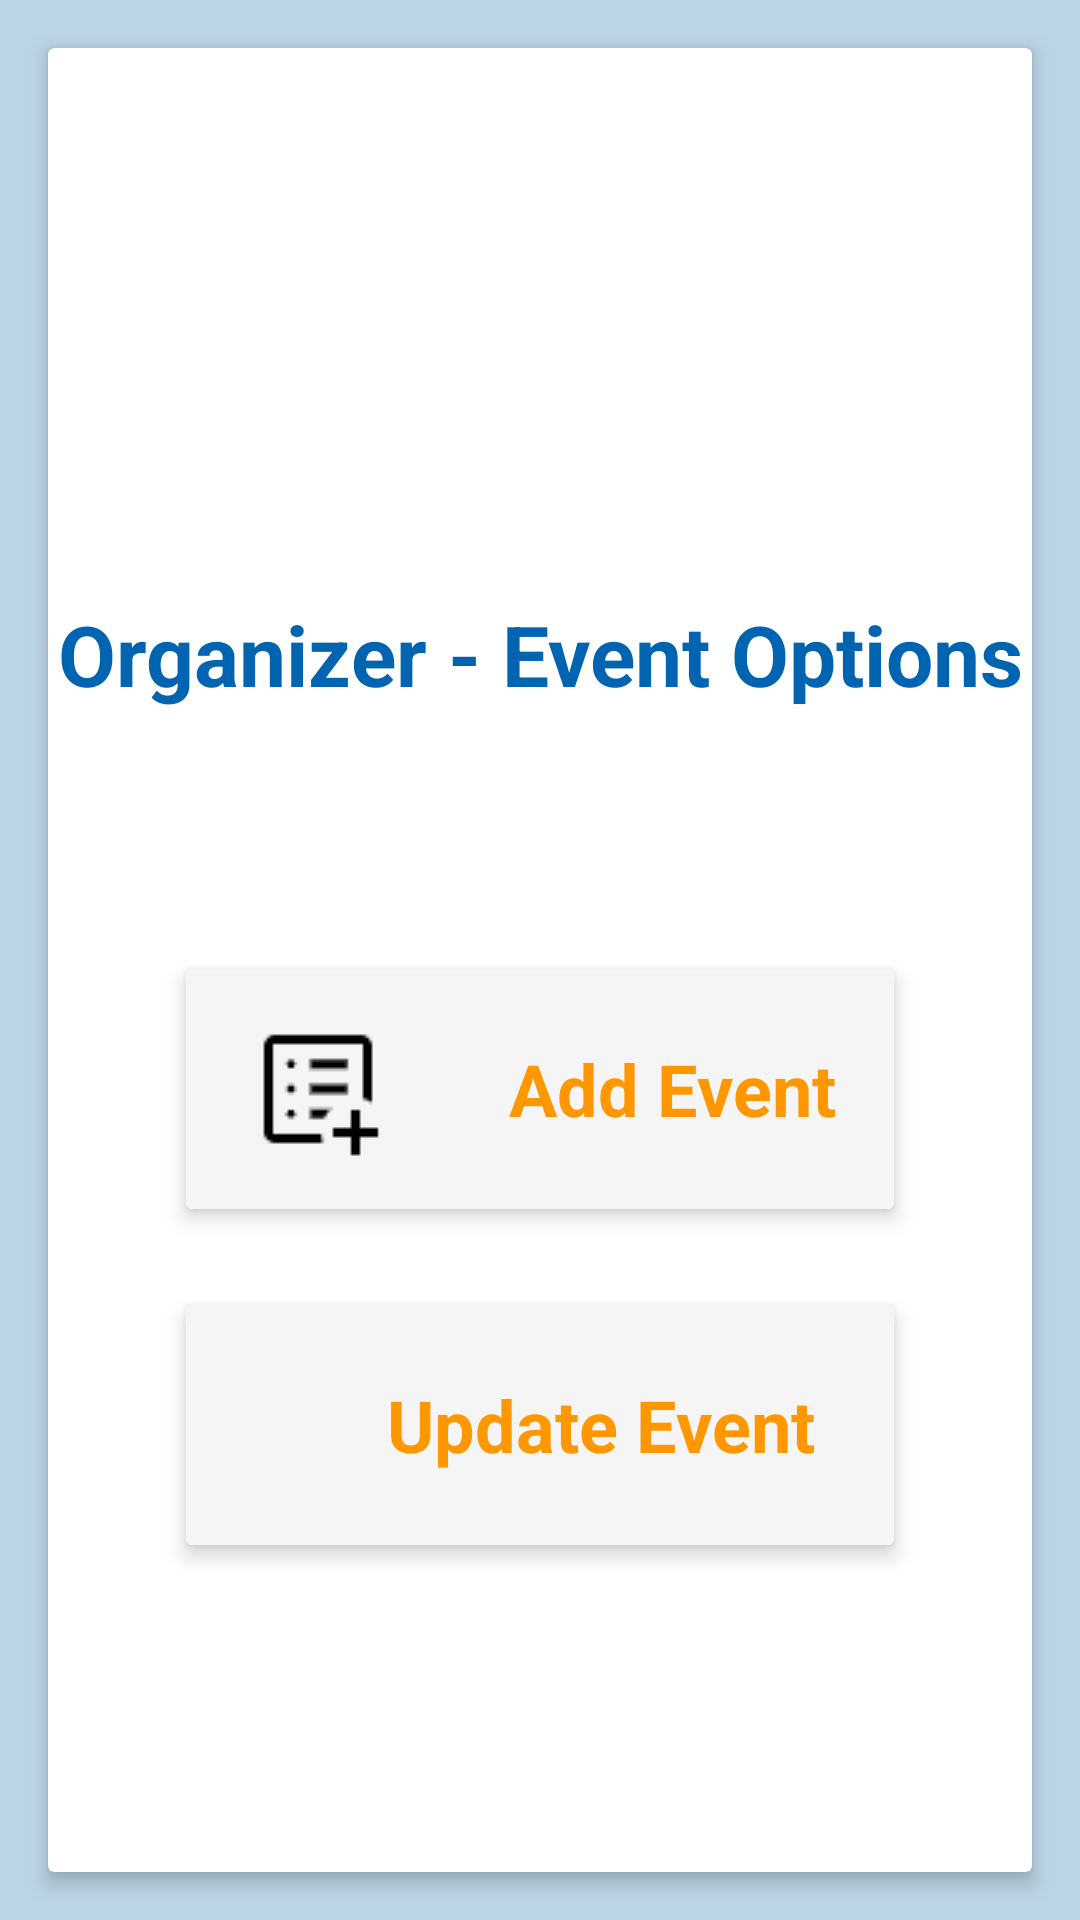

Icons on this 1080 × 1920 Android screen, each with the point to tap as (x,y):
list add: (321,1095)
